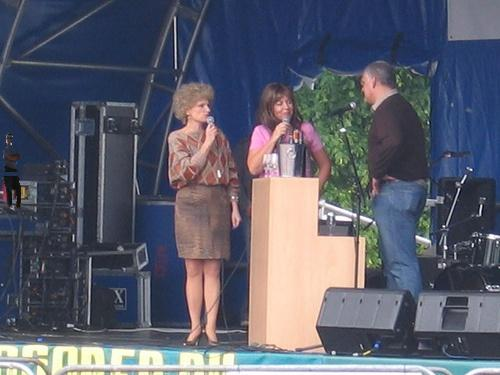tampered: (3, 134, 21, 208)
